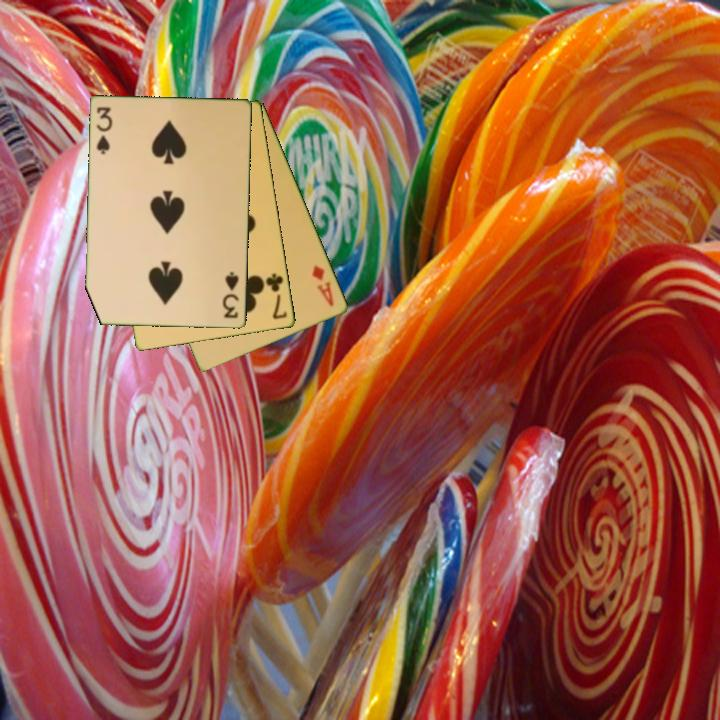3s: (93, 104, 116, 157), (220, 269, 242, 321)
7c: (262, 270, 290, 322)
Ad: (308, 261, 337, 309)
